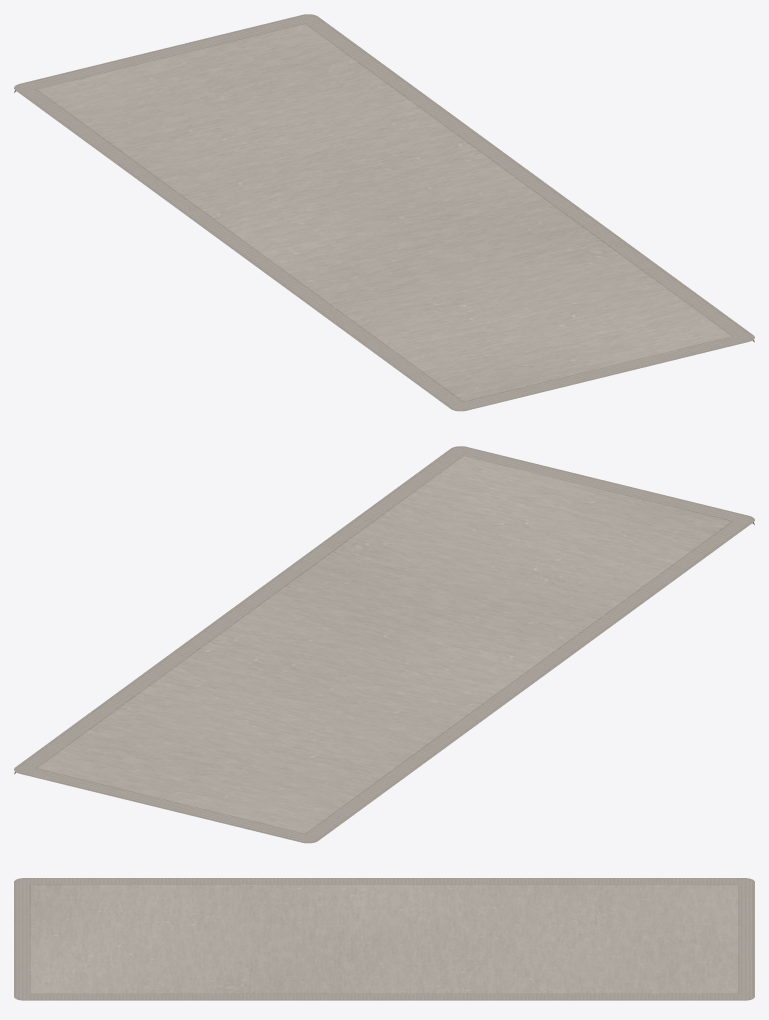
File: beige_kitchen.glb
3 renders of one model, top to bottom at view 1: azimuth 30°, elevation 25°; view 2: azimuth 150°, elevation 25°; view 3: azimuth 270°, elevation 25°, orthographic. The views are drawn at different scales.
Parts seen in each view (by area): view 1: reliv_beige_kitchen; view 2: reliv_beige_kitchen; view 3: reliv_beige_kitchen.
Part boxes in pixels (x1=…): reliv_beige_kitchen: x1=14, y1=14, x2=754, y2=411; reliv_beige_kitchen: x1=14, y1=446, x2=754, y2=843; reliv_beige_kitchen: x1=14, y1=878, x2=754, y2=1000.
Bounding box in the file's own units: 0.45 × 0.009 × 1.15.
2 materials, 1 textured.
